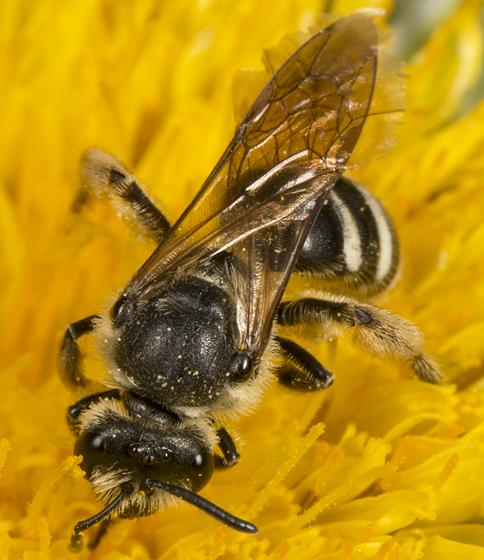Lasioglossum: (53, 9, 440, 554)
